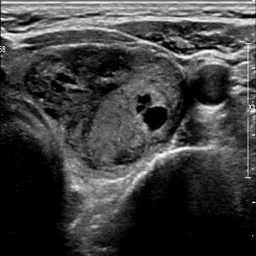mass: (24, 46, 186, 167)
